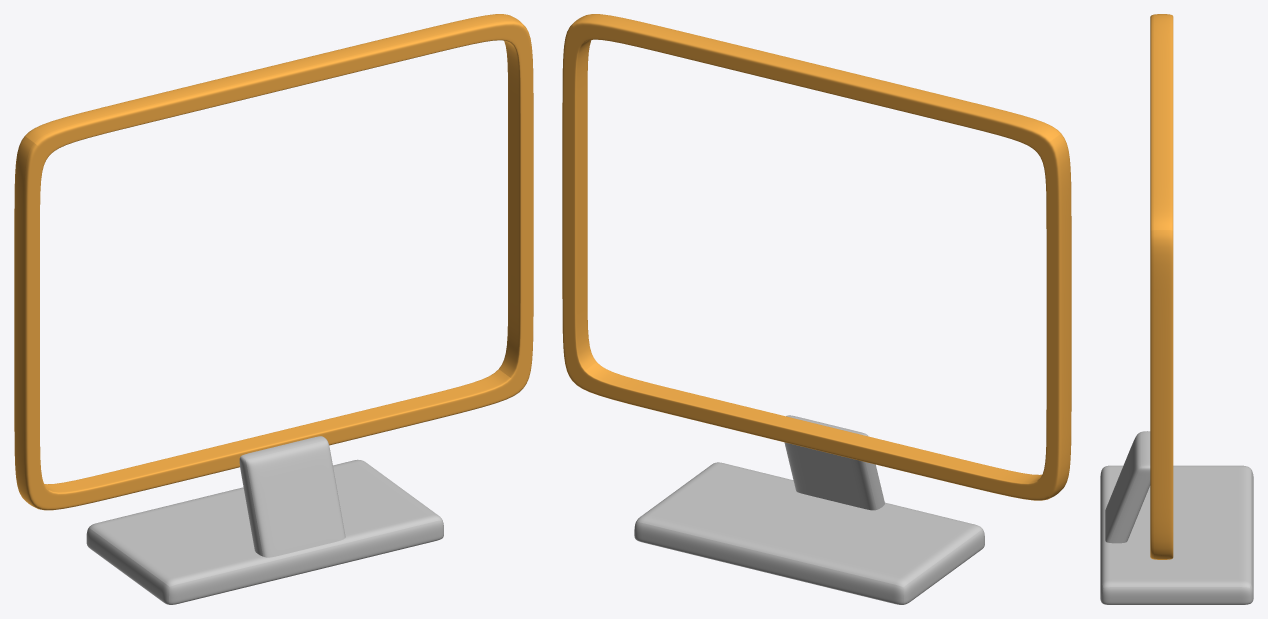
Rendered from monitor7.glb.
3 views of the same model, side by side, from view 1: azimuth 30°, elevation 25°; view 2: azimuth 150°, elevation 25°; view 3: azimuth 270°, elevation 25° (orthographic). The views are drawn at different scales.
Parts seen in each view (by area): view 1: ToBlenderMonitor.006; view 2: ToBlenderMonitor.006; view 3: ToBlenderMonitor.006.
Boxes of the visible parts, box(x1,y1,x2,y2) form: ToBlenderMonitor.006: box(14, 14, 533, 604); ToBlenderMonitor.006: box(562, 14, 1071, 604); ToBlenderMonitor.006: box(1100, 14, 1253, 604).
Bounding box in the file's own units: 7.29 × 6.55 × 2.11.
